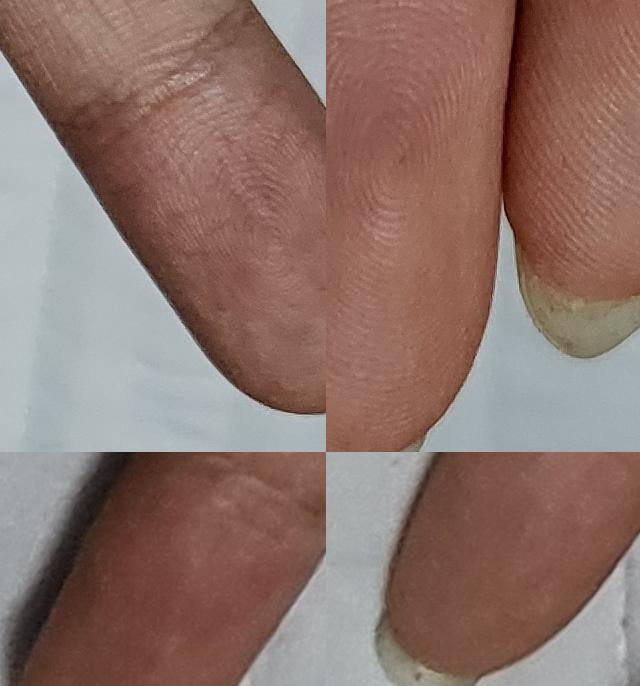Fingerprints: (59, 10, 326, 415), (326, 0, 518, 452), (15, 452, 326, 686), (385, 452, 640, 677)
